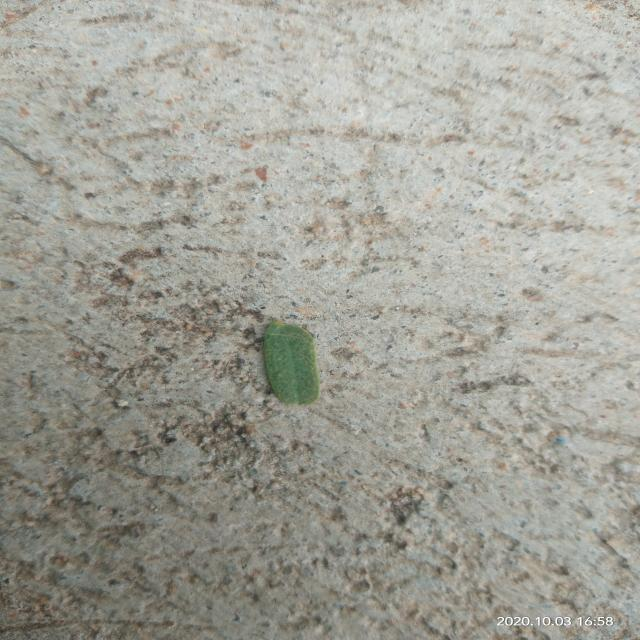tamarind: (263, 320, 320, 405)
